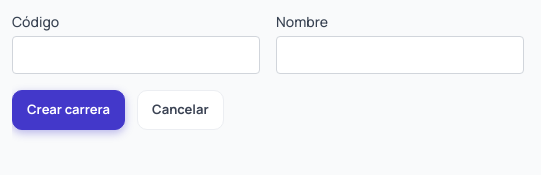
CarreraForm › shows validation error when codigo is empty
Step 1. Click the button with test id "carrera-submit" → (69, 110), box [12,90,125,130]
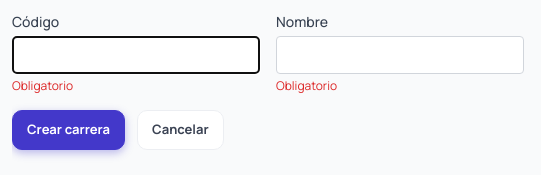
Check: the text with test id "carrera-codigo-error" is shown, box [12,77,73,94]
